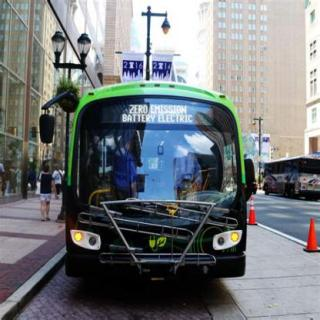Normal_vehicle: (38, 65, 283, 291)
